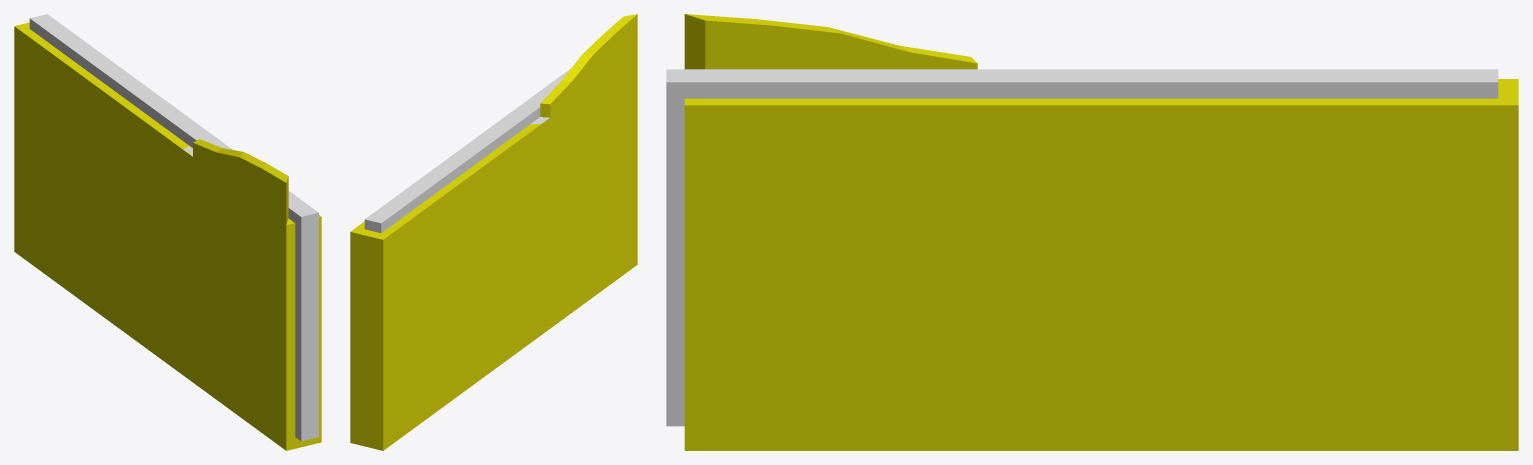
The model's file is ObjetivoArchivo.fbx.
The picture shows the model from 3 angles, left to right: view 1: azimuth 30°, elevation 25°; view 2: azimuth 150°, elevation 25°; view 3: azimuth 270°, elevation 25°; orthographic projection. The views are drawn at different scales.
Visible parts, largest first — view 1: Cube; view 2: Cube; view 3: Cube.
Boxes of the visible parts, x1,y1,x2,y2 form: Cube: (14, 14, 321, 450); Cube: (350, 14, 637, 450); Cube: (666, 14, 1518, 450).
Bounding box in the file's own units: 22.52 × 164 × 308.
